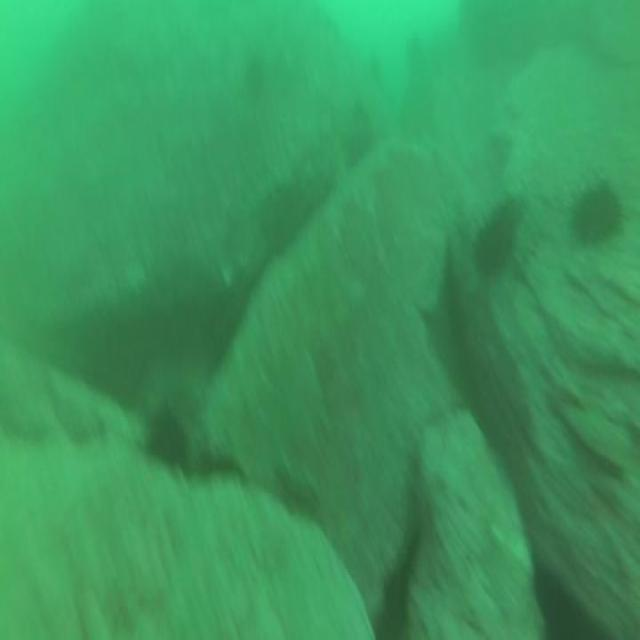echinus: (469, 197, 519, 283), (140, 396, 188, 478), (571, 178, 625, 250), (186, 442, 249, 483), (240, 46, 266, 103)
